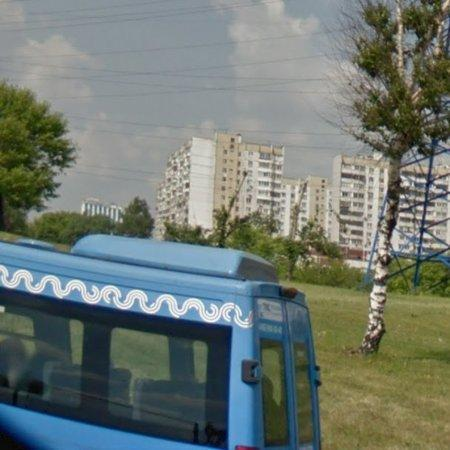buses: (0, 235, 321, 450)
